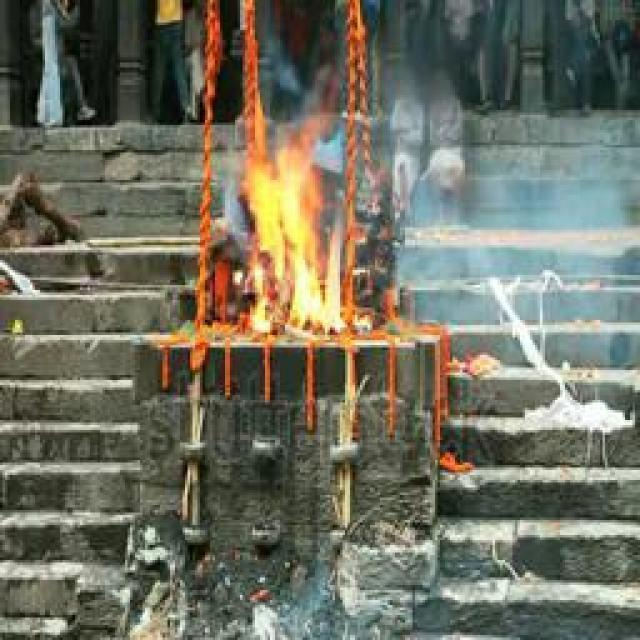Fire: (240, 134, 345, 337)
